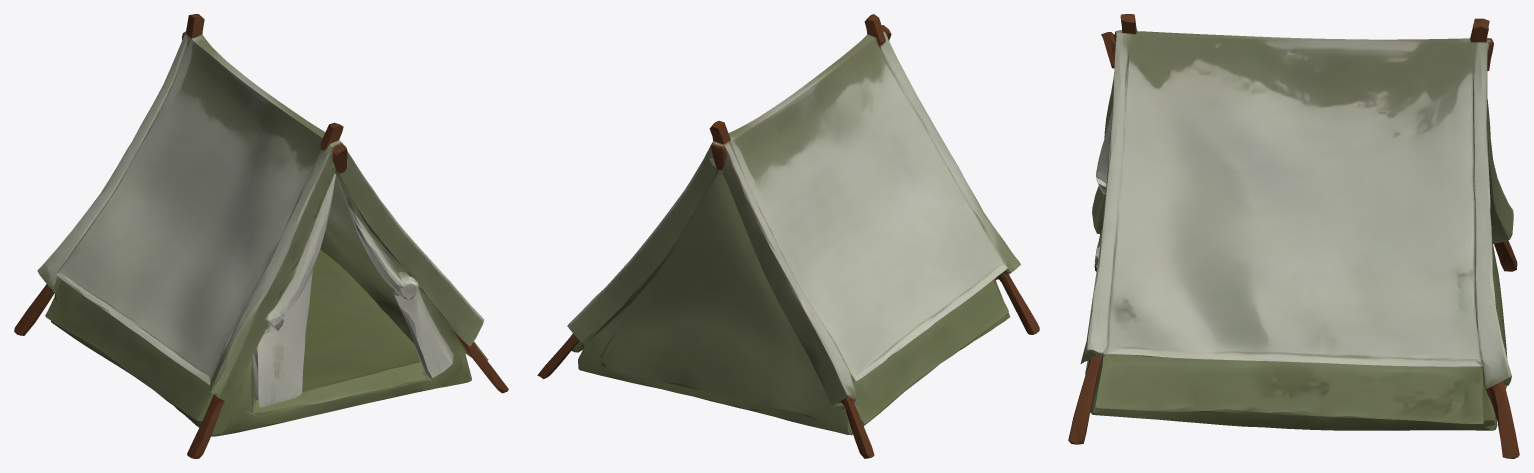
3 views of the same model, side by side, from view 1: azimuth 30°, elevation 25°; view 2: azimuth 150°, elevation 25°; view 3: azimuth 270°, elevation 25° (orthographic). The views are drawn at different scales.
Visible parts, largest first — view 1: Mesh; view 2: Mesh; view 3: Mesh.
Boxes of the visible parts, x1,y1,x2,y2 form: Mesh: (14,14,508,458); Mesh: (537,14,1039,458); Mesh: (1068,14,1519,458).
Bounding box in the file's own units: 1.9 × 1.57 × 1.86.
Materials: 1 (1 with a texture image).
